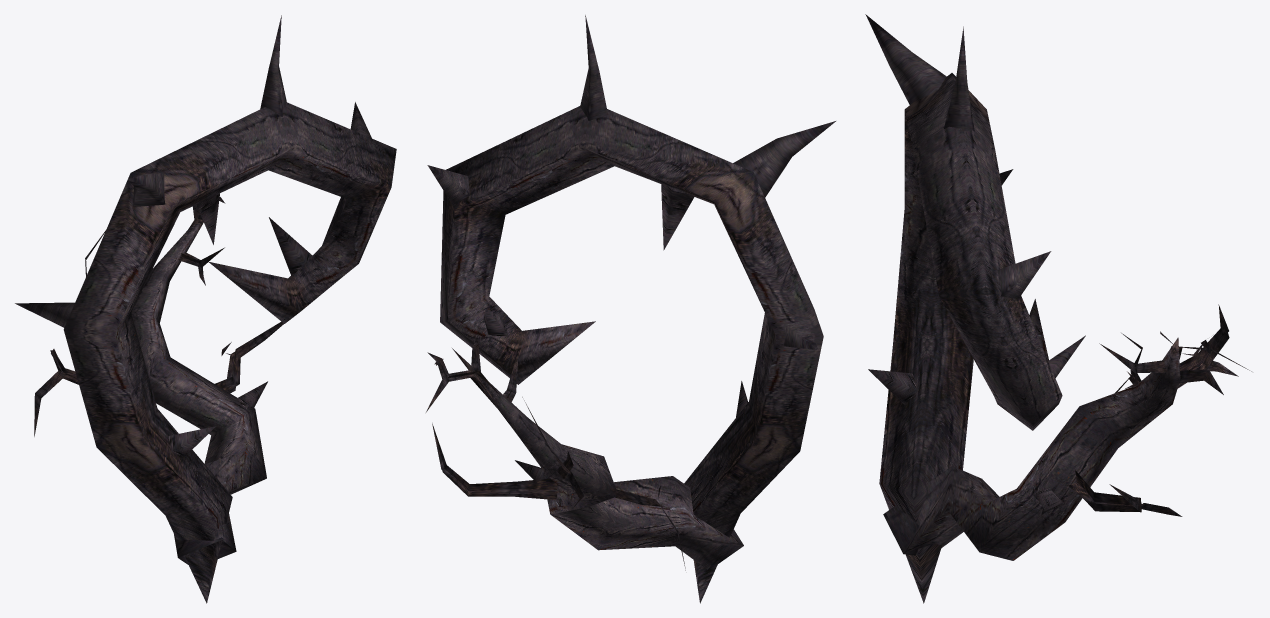
Rendered from yw_mojiediyu_jingji02.FBX.
The picture shows the model from 3 angles, left to right: view 1: azimuth 30°, elevation 25°; view 2: azimuth 150°, elevation 25°; view 3: azimuth 270°, elevation 25°; orthographic projection. The views are drawn at different scales.
Parts seen in each view (by area): view 1: yw_mojiediyu_jingji02; view 2: yw_mojiediyu_jingji02; view 3: yw_mojiediyu_jingji02.
Boxes of the visible parts, x1=… form: yw_mojiediyu_jingji02: x1=15, y1=15, x2=396, y2=603; yw_mojiediyu_jingji02: x1=426, y1=15, x2=835, y2=603; yw_mojiediyu_jingji02: x1=865, y1=14, x2=1251, y2=603.
Size of the model in its own units: 96.63 by 138 by 77.74.
